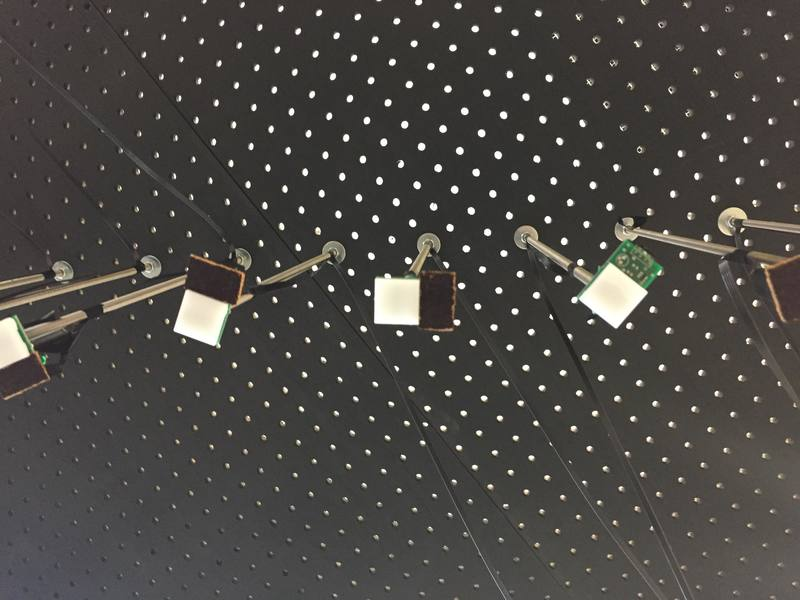target: (575, 263, 648, 327), (167, 290, 232, 352), (370, 274, 424, 326)
